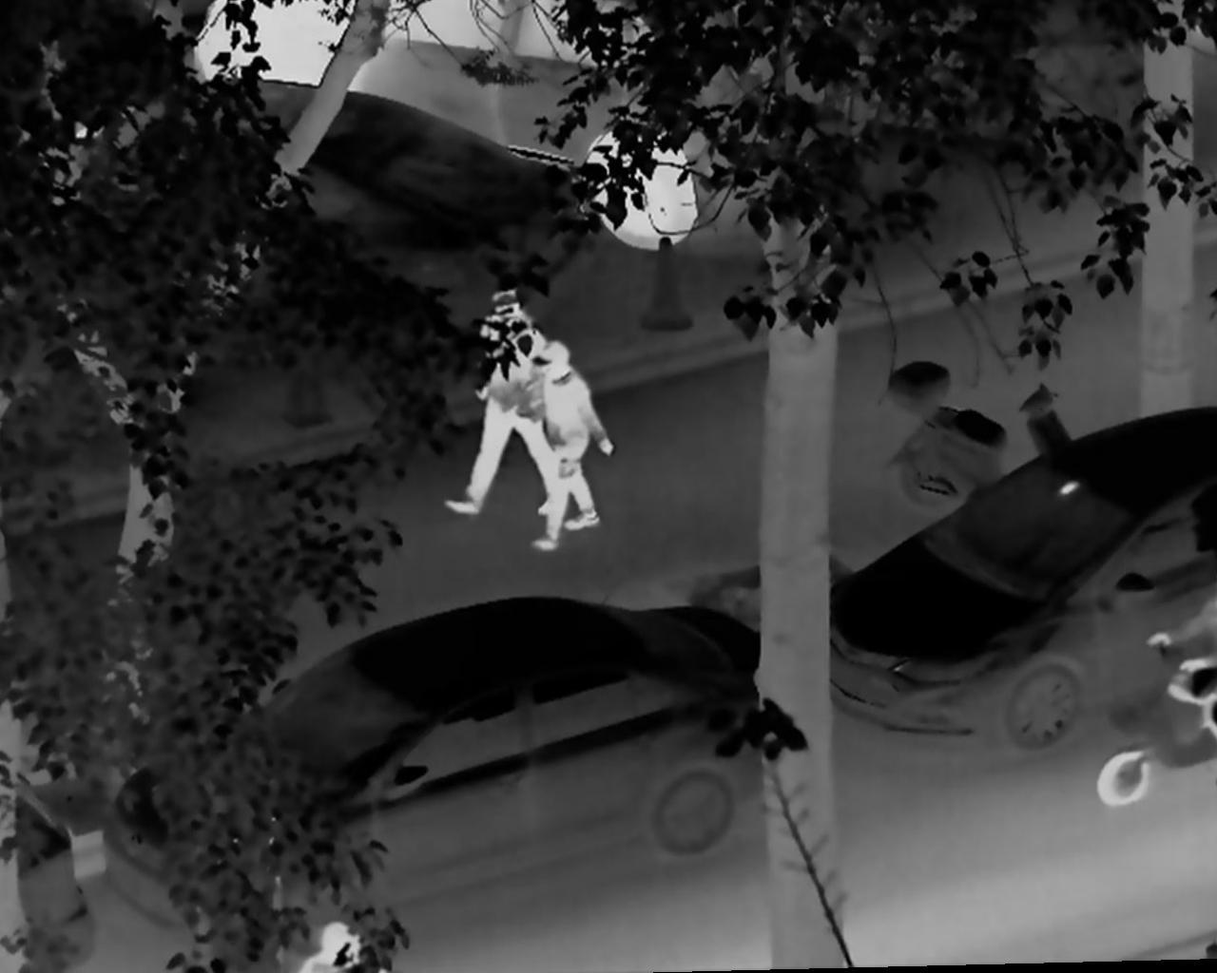person: (442, 286, 558, 525), (513, 340, 615, 555), (1142, 561, 1217, 681), (295, 915, 384, 973)
